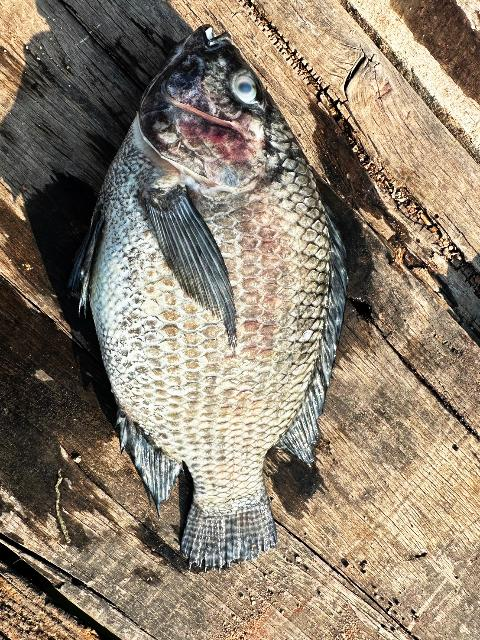Aeromonas Septicemia: (69, 24, 349, 572), (69, 25, 337, 568)
